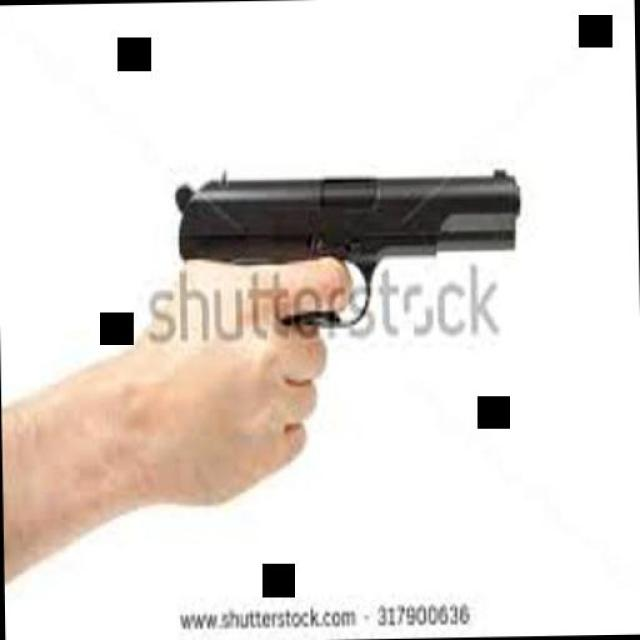gun: (161, 168, 525, 352)
